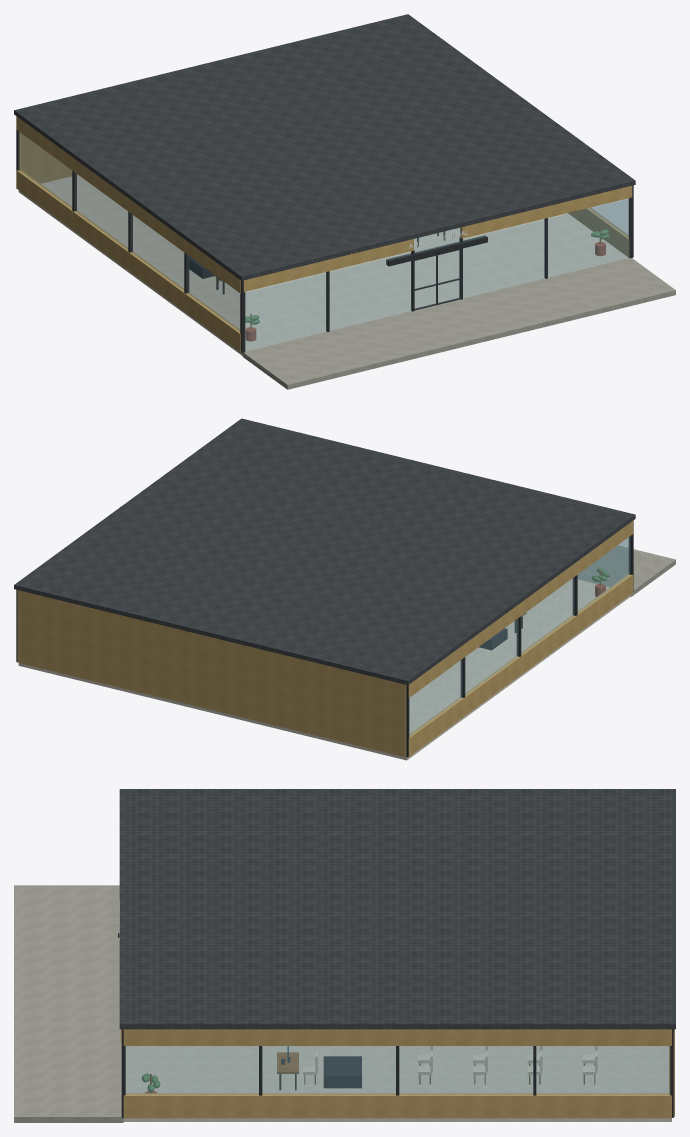
File: 18_Airport_LOD1.glb
3 renders of one model, top to bottom at view 1: azimuth 30°, elevation 25°; view 2: azimuth 150°, elevation 25°; view 3: azimuth 270°, elevation 25°, orthographic. The views are drawn at different scales.
Parts seen in each view (by area): view 1: Roof, Floor, Approach, Front glazing.001, Front glazing, Side glazing, Side base wall, Side upper wall, Front band.001, Front band, Rear wall, Side base wall.001 (+5 smaller); view 2: Roof, Rear wall, Side glazing, Floor, Side base wall, Side upper wall, Approach, Front glazing; view 3: Roof, Side glazing.001, Approach, Floor, Side base wall.001, Side upper wall.001, Baggage belt.003.
Part boxes in pixels (x1,y1,x2,y2): Roof: [14, 14, 635, 280]; Floor: [18, 175, 628, 355]; Approach: [242, 258, 675, 389]; Front glazing.001: [463, 199, 629, 298]; Front glazing: [245, 252, 411, 351]; Side glazing: [19, 132, 239, 331]; Side base wall: [16, 170, 240, 352]; Side upper wall: [16, 116, 240, 293]; Front band.001: [460, 185, 632, 238]; Front band: [243, 239, 413, 291]; Rear wall: [19, 132, 77, 183]; Side base wall.001: [568, 207, 629, 257]; Roof: [14, 418, 635, 684]; Rear wall: [17, 590, 406, 757]; Side glazing: [409, 536, 630, 736]; Floor: [18, 578, 630, 760]; Side base wall: [408, 574, 633, 756]; Side upper wall: [408, 521, 633, 697]; Approach: [578, 545, 675, 596]; Front glazing: [578, 538, 628, 586]; Roof: [119, 789, 675, 1029]; Side glazing.001: [126, 1046, 669, 1094]; Approach: [14, 885, 123, 1122]; Floor: [123, 1046, 671, 1121]; Side base wall.001: [123, 1093, 671, 1118]; Side upper wall.001: [123, 1029, 671, 1045]; Baggage belt.003: [323, 1056, 361, 1088].
Bounding box in the file's own units: 20.3 × 4.04 × 24.15.
14 materials, 8 textured.
